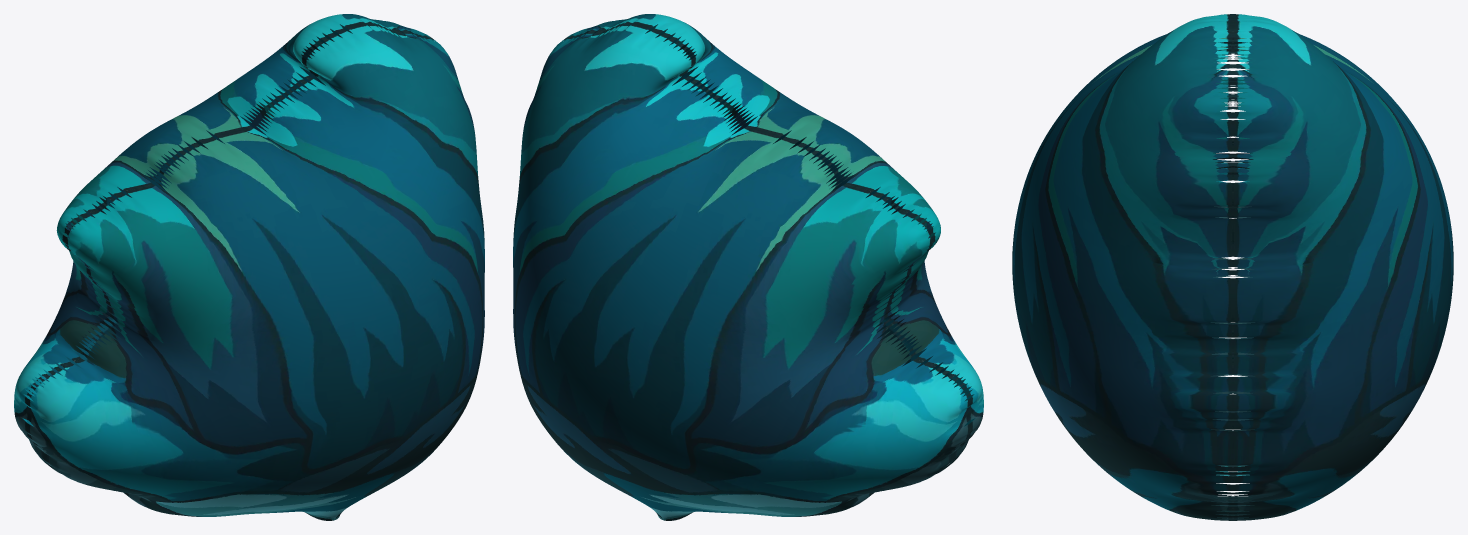
File: blue_cliff.glb
3 renders of one model, left to right at view 1: azimuth 30°, elevation 25°; view 2: azimuth 150°, elevation 25°; view 3: azimuth 270°, elevation 25°, orthographic. The views are drawn at different scales.
Parts seen in each view (by area): view 1: blue_cliff; view 2: blue_cliff; view 3: blue_cliff.
Boxes of the visible parts, x1,y1,x2,y2 form: blue_cliff: [14, 14, 484, 520]; blue_cliff: [513, 14, 983, 520]; blue_cliff: [1012, 14, 1453, 520].
Bounding box in the file's own units: 0.989 × 0.9853 × 0.7911.
Materials: 1 (1 with a texture image).
